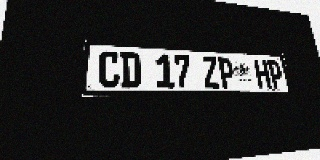1: (155, 54, 175, 88)
7: (173, 55, 193, 88)
C: (98, 51, 120, 88)
D: (120, 52, 141, 88)
H: (253, 59, 272, 88)
P: (217, 57, 236, 88), (267, 60, 285, 88)
Z: (201, 56, 220, 88)
